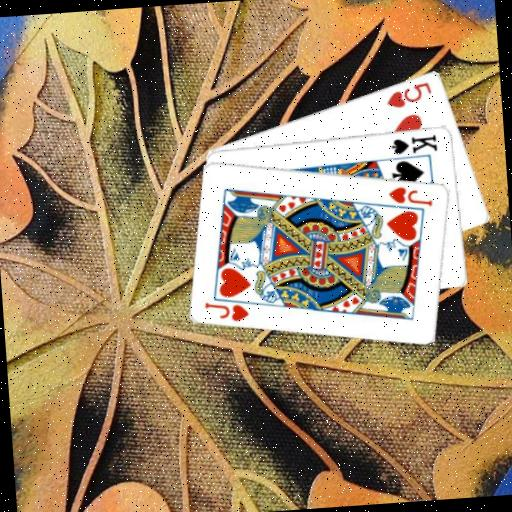5H: (383, 78, 435, 110)
JH: (385, 181, 434, 211), (202, 296, 251, 325)
KS: (388, 130, 440, 156)
